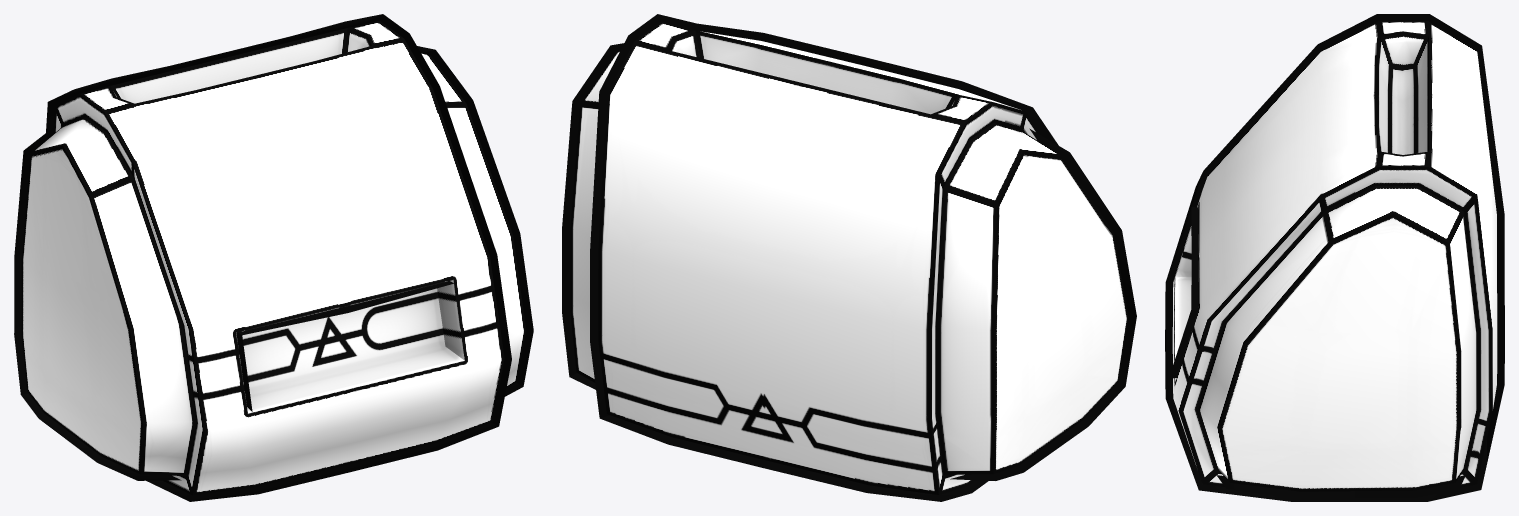
File: obj_terminal.gltf
3 renders of one model, left to right at view 1: azimuth 30°, elevation 25°; view 2: azimuth 150°, elevation 25°; view 3: azimuth 270°, elevation 25°, orthographic. The views are drawn at different scales.
Parts seen in each view (by area): view 1: obj_terminal; view 2: obj_terminal; view 3: obj_terminal.
Part boxes in pixels (box(x1,y1,x2,y2)): obj_terminal: box(14, 14, 533, 501); obj_terminal: box(562, 14, 1136, 501); obj_terminal: box(1165, 14, 1504, 501).
Size of what is drawn, in the model's own units: 1.44 by 1.16 by 1.03.
1 material, 1 textured.
